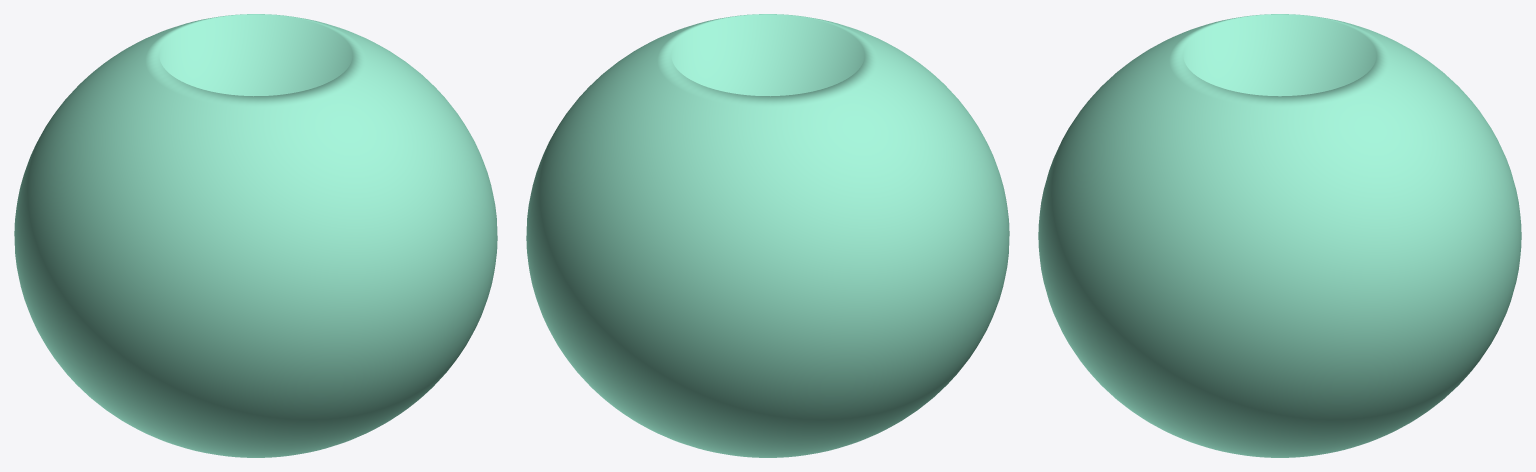
The model's file is spacer-309-glass.glb.
3 views of the same model, side by side, from view 1: azimuth 30°, elevation 25°; view 2: azimuth 150°, elevation 25°; view 3: azimuth 270°, elevation 25° (orthographic).
Parts seen in each view (by area): view 1: Spacer with through bore.008; view 2: Spacer with through bore.008; view 3: Spacer with through bore.008.
Part boxes in pixels (left/top/right/bottom): Spacer with through bore.008: left=14, top=14, right=497, bottom=457; Spacer with through bore.008: left=526, top=14, right=1009, bottom=457; Spacer with through bore.008: left=1038, top=14, right=1521, bottom=457.
Bounding box in the file's own units: 0.002 × 0.00165 × 0.002.
